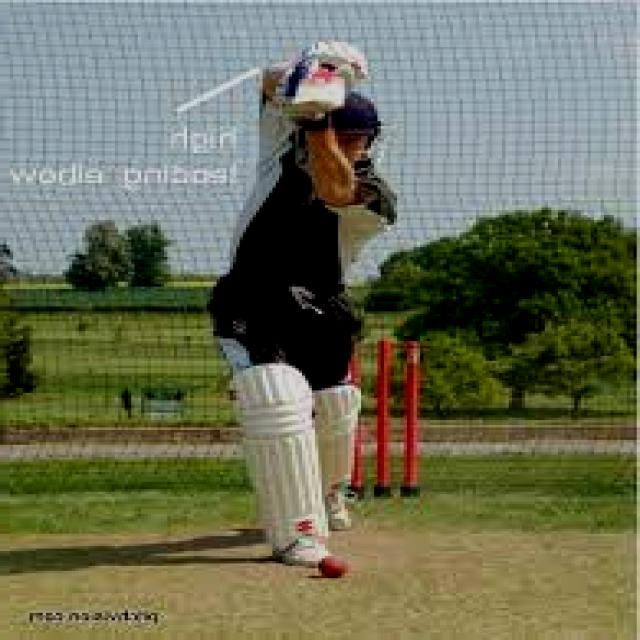toe: (287, 86, 349, 117)
